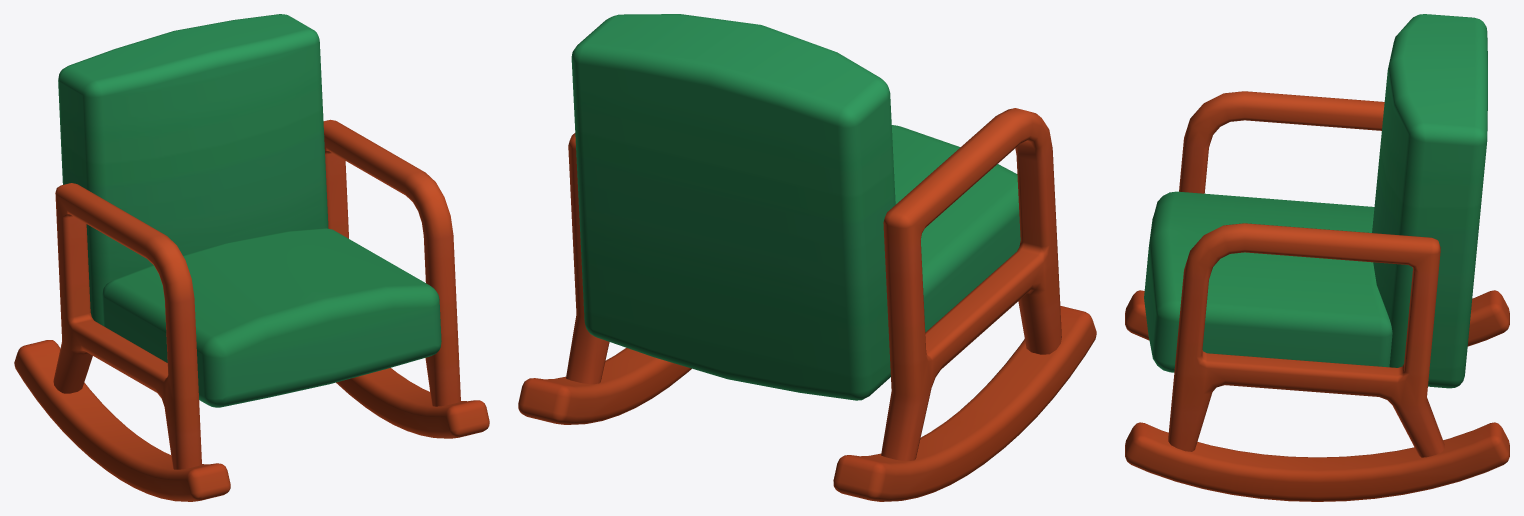
File: Armchair_22.glb
3 views of the same model, side by side, from view 1: azimuth 30°, elevation 25°; view 2: azimuth 150°, elevation 25°; view 3: azimuth 270°, elevation 25° (orthographic). The views are drawn at different scales.
Visible parts, largest first — view 1: Armchair_22; view 2: Armchair_22; view 3: Armchair_22.
Part boxes in pixels (x1,y1,x2,y2): Armchair_22: [14, 14, 489, 501]; Armchair_22: [518, 14, 1096, 501]; Armchair_22: [1125, 14, 1509, 501].
Bounding box in the file's own units: 0.76 × 0.8654 × 0.8126.
1 material, 1 textured.
